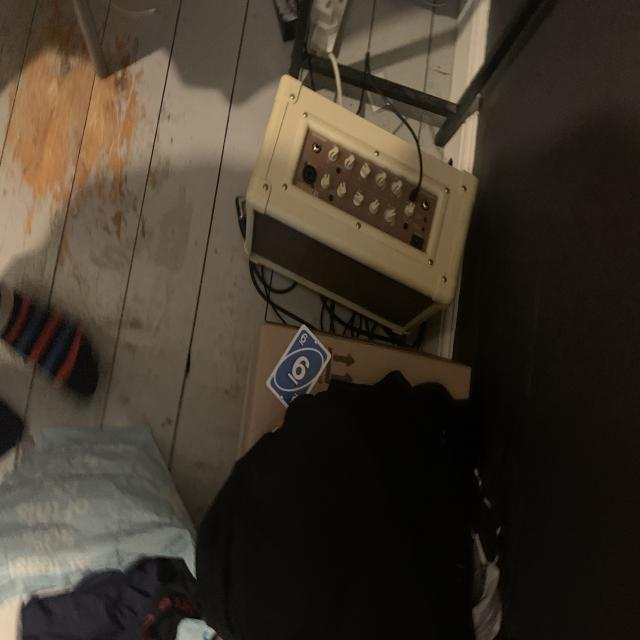lblue-6: (296, 331, 309, 347)
